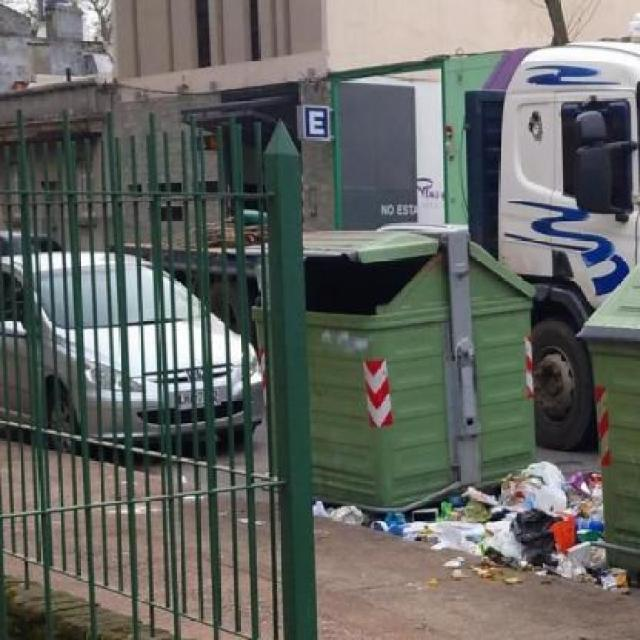garbage: (311, 495, 634, 586), (485, 454, 604, 516)
